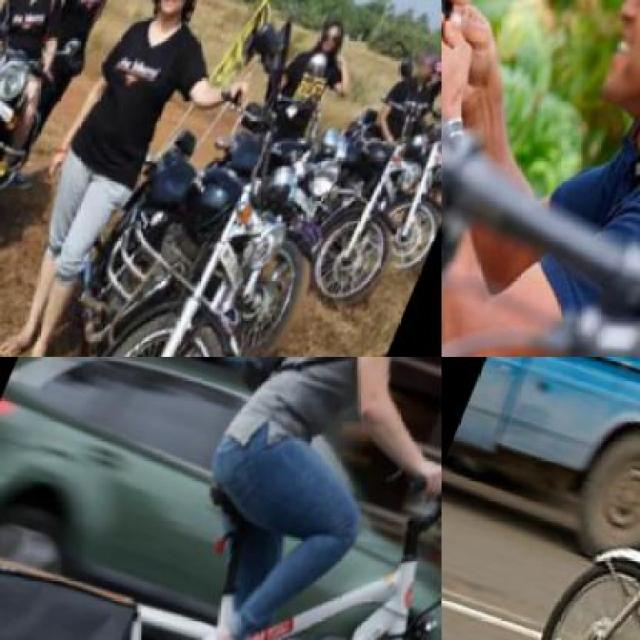With Helmet: (557, 0, 638, 177)
Without Helmet: (298, 4, 360, 79), (137, 0, 215, 42), (407, 58, 438, 99)
